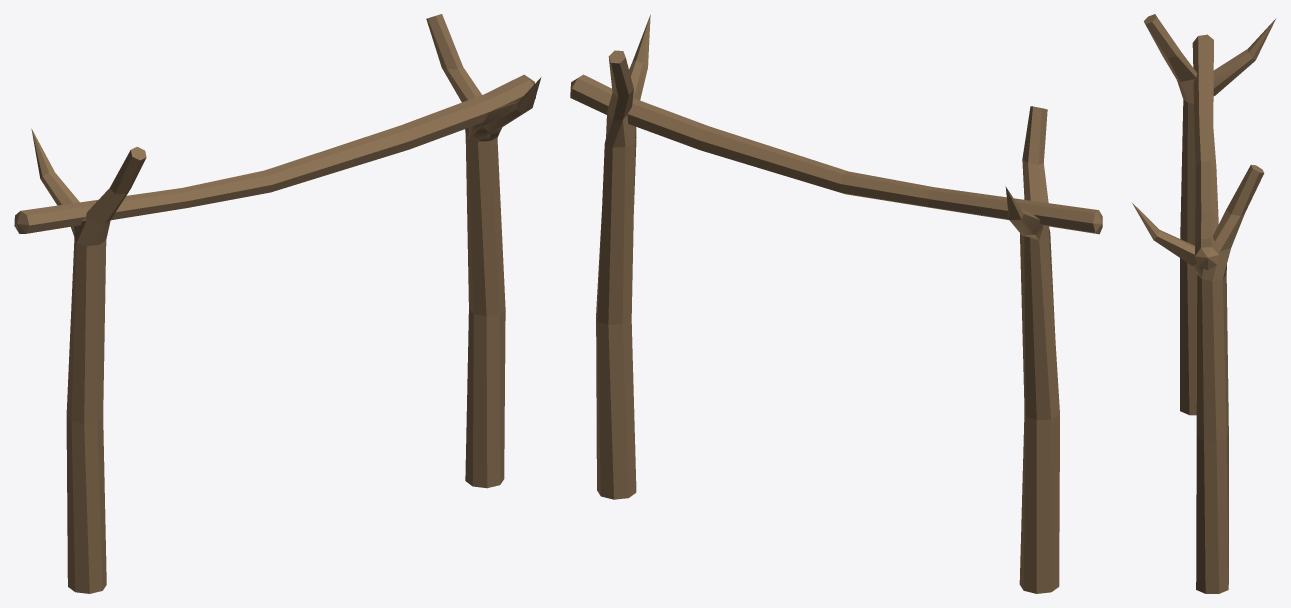
The model's file is rpgpp_ag_gate_small_02.fbx.
The picture shows the model from 3 angles, left to right: view 1: azimuth 30°, elevation 25°; view 2: azimuth 150°, elevation 25°; view 3: azimuth 270°, elevation 25°; orthographic projection. The views are drawn at different scales.
Parts seen in each view (by area): view 1: rpgpp_ag_gate_small_02; view 2: rpgpp_ag_gate_small_02; view 3: rpgpp_ag_gate_small_02.
Boxes of the visible parts, box(x1,y1,x2,y2) form: rpgpp_ag_gate_small_02: box(14, 14, 541, 593); rpgpp_ag_gate_small_02: box(570, 14, 1102, 593); rpgpp_ag_gate_small_02: box(1132, 14, 1275, 593).
Size of the model in its own units: 6.61 by 5.53 by 1.78.
